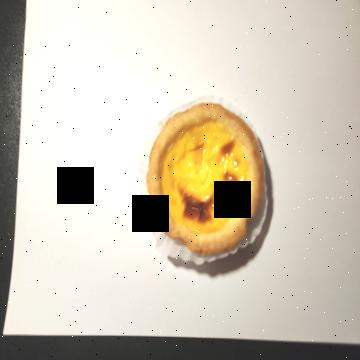EggTart: (145, 102, 264, 254)
